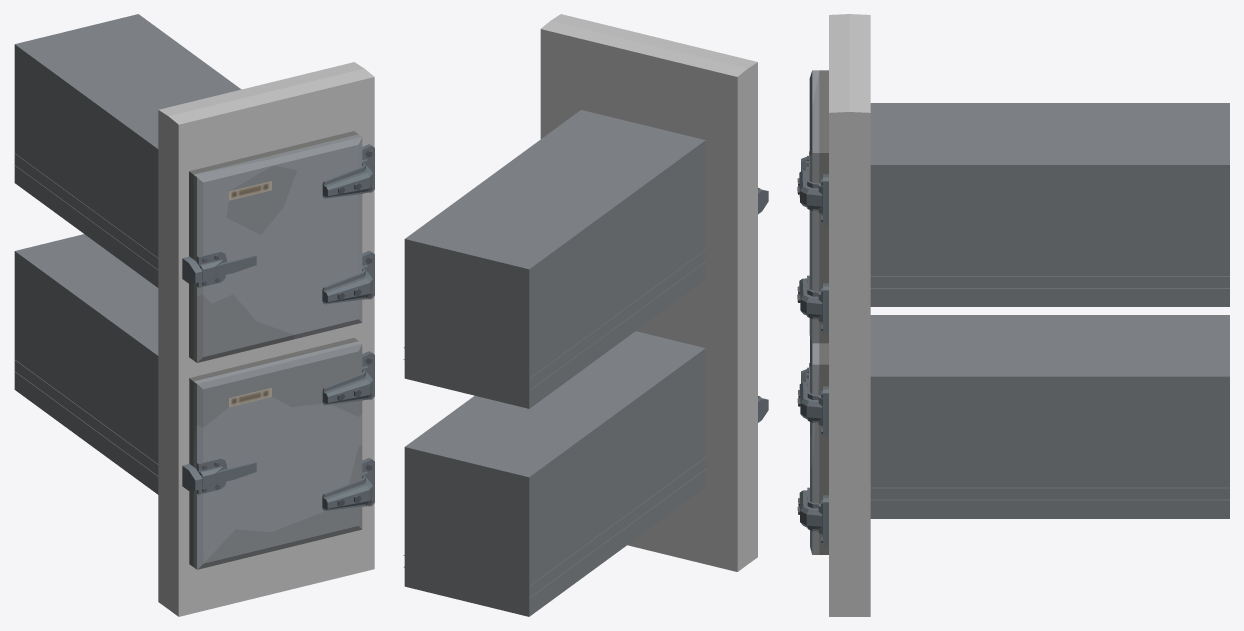
The model's file is SM_Prop_Morgue_Wall_Half_01.fbx.
3 views of the same model, side by side, from view 1: azimuth 30°, elevation 25°; view 2: azimuth 150°, elevation 25°; view 3: azimuth 270°, elevation 25° (orthographic). The views are drawn at different scales.
Visible parts, largest first — view 1: SM_Prop_Morgue_Wall_Half_01, SM_Prop_Morgue_Top_01, SM_Prop_Morgue_Door_Top_01, SM_Prop_Morgue_Door_Bottom_01, SM_Prop_Morgue_Bottom_01; view 2: SM_Prop_Morgue_Top_01, SM_Prop_Morgue_Bottom_01, SM_Prop_Morgue_Wall_Half_01; view 3: SM_Prop_Morgue_Top_01, SM_Prop_Morgue_Bottom_01, SM_Prop_Morgue_Wall_Half_01, SM_Prop_Morgue_Door_Top_01, SM_Prop_Morgue_Door_Bottom_01.
Part boxes in pixels (box(x1,y1,x2,y2)): SM_Prop_Morgue_Wall_Half_01: box(158, 62, 374, 616); SM_Prop_Morgue_Top_01: box(14, 14, 358, 360); SM_Prop_Morgue_Door_Top_01: box(193, 134, 372, 362); SM_Prop_Morgue_Door_Bottom_01: box(193, 341, 372, 569); SM_Prop_Morgue_Bottom_01: box(14, 234, 358, 566); SM_Prop_Morgue_Top_01: box(403, 110, 705, 408); SM_Prop_Morgue_Bottom_01: box(403, 331, 705, 616); SM_Prop_Morgue_Wall_Half_01: box(540, 14, 768, 571); SM_Prop_Morgue_Top_01: box(819, 70, 1229, 343); SM_Prop_Morgue_Bottom_01: box(819, 315, 1229, 554); SM_Prop_Morgue_Wall_Half_01: box(801, 14, 870, 616); SM_Prop_Morgue_Door_Top_01: box(797, 70, 822, 343); SM_Prop_Morgue_Door_Bottom_01: box(797, 337, 822, 554).
Bounding box in the file's own units: 125 × 301 × 233.
